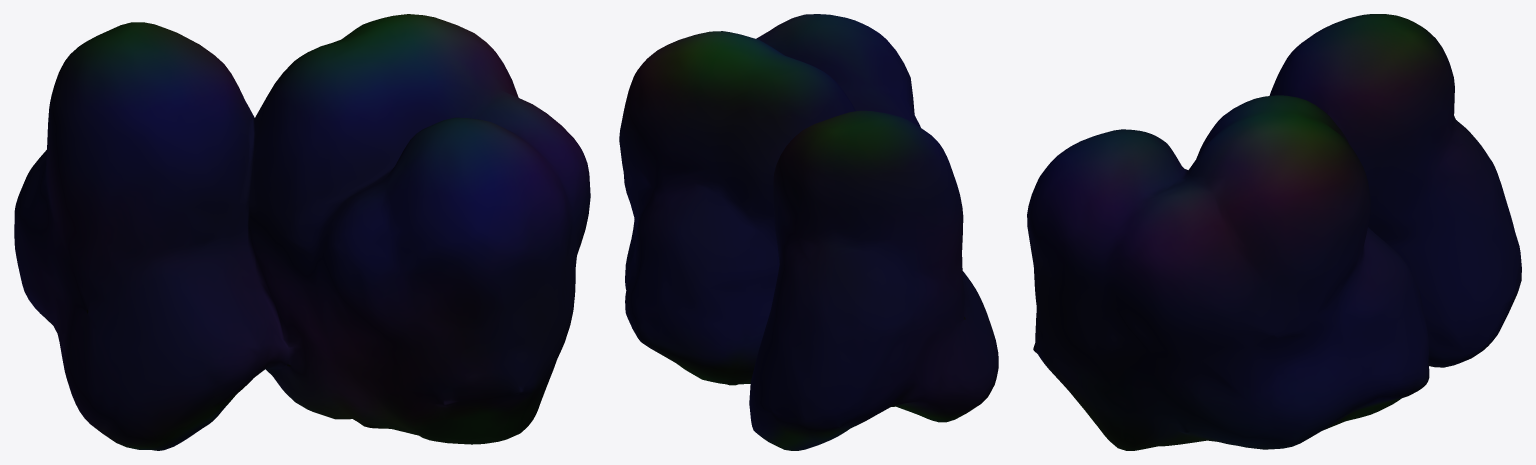
The model's file is small_cloud_2.fbx.
The picture shows the model from 3 angles, left to right: view 1: azimuth 30°, elevation 25°; view 2: azimuth 150°, elevation 25°; view 3: azimuth 270°, elevation 25°; orthographic projection. The views are drawn at different scales.
Visible parts, largest first — view 1: small_cloud_2; view 2: small_cloud_2; view 3: small_cloud_2.
Part boxes in pixels (bbox=[...]): small_cloud_2: bbox=[14, 14, 590, 450]; small_cloud_2: bbox=[619, 14, 998, 450]; small_cloud_2: bbox=[1027, 14, 1521, 450].
Bounding box in the file's own units: 3.94 × 3.17 × 4.27.
